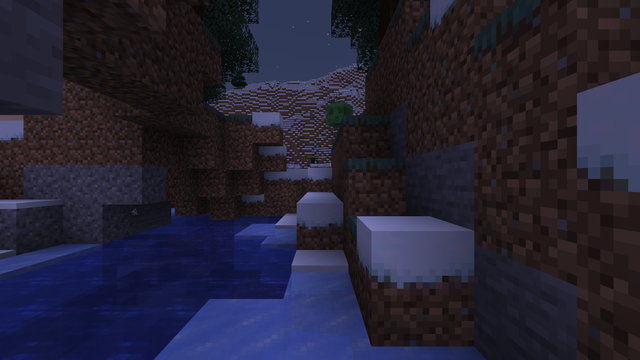slimes: (329, 101, 351, 126)
